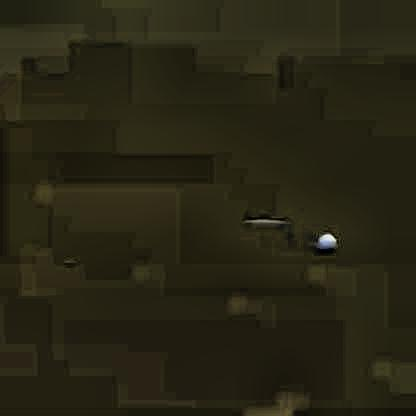golfball: (314, 231, 334, 251)
